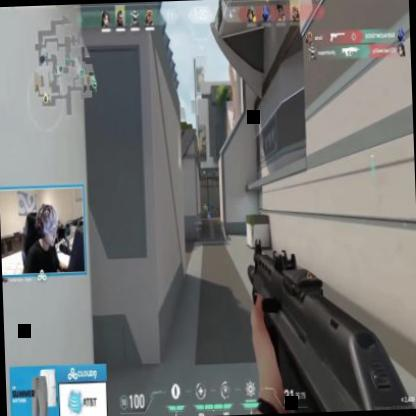enemy: (201, 202, 209, 218)
enemy_head: (204, 203, 206, 207)
